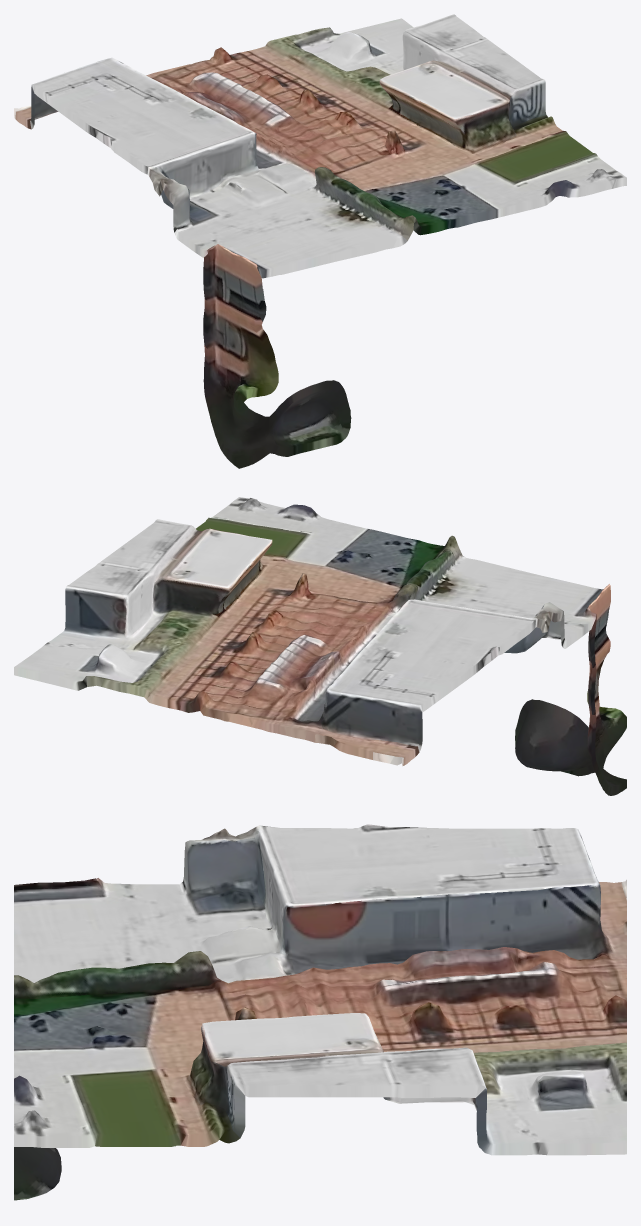
Rendered from z20-167769-405196-h0-yup-uvflip-v3-world.glb.
3 views of the same model, one above another, from view 1: azimuth 30°, elevation 25°; view 2: azimuth 150°, elevation 25°; view 3: azimuth 270°, elevation 25° (orthographic). The views are drawn at different scales.
Size of the model in its own units: 30.16 by 17.56 by 30.32.
1 material, 1 textured.
